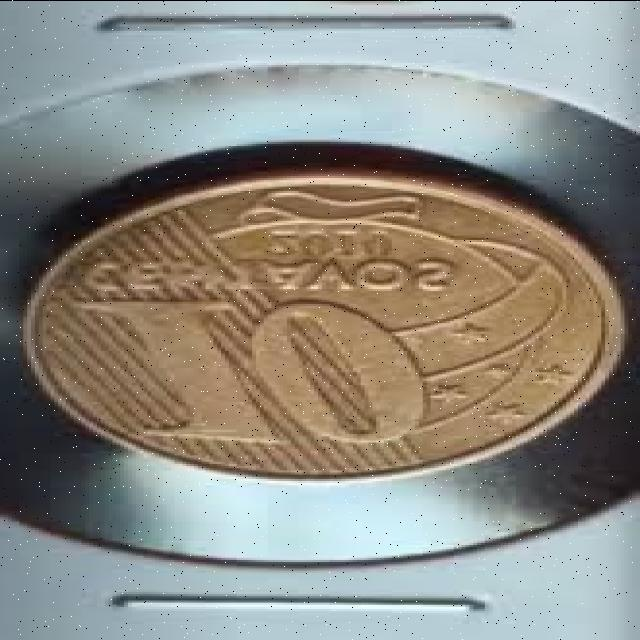10 cent: (35, 166, 632, 476)
